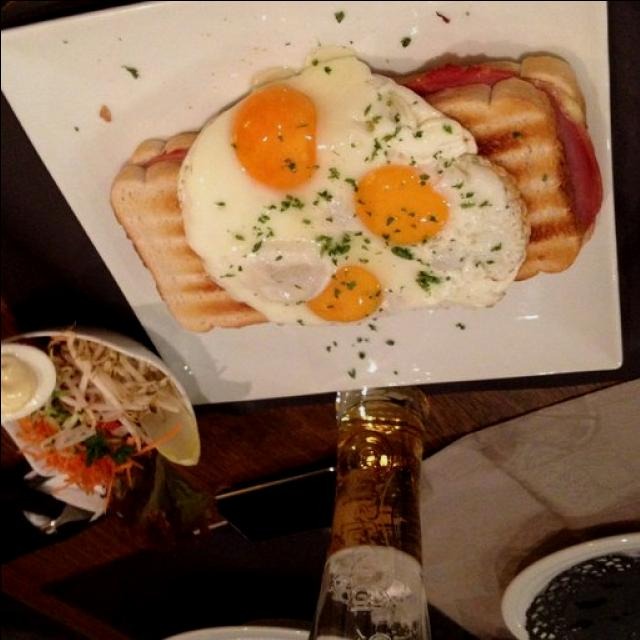telur ceplok: (176, 46, 528, 325)
